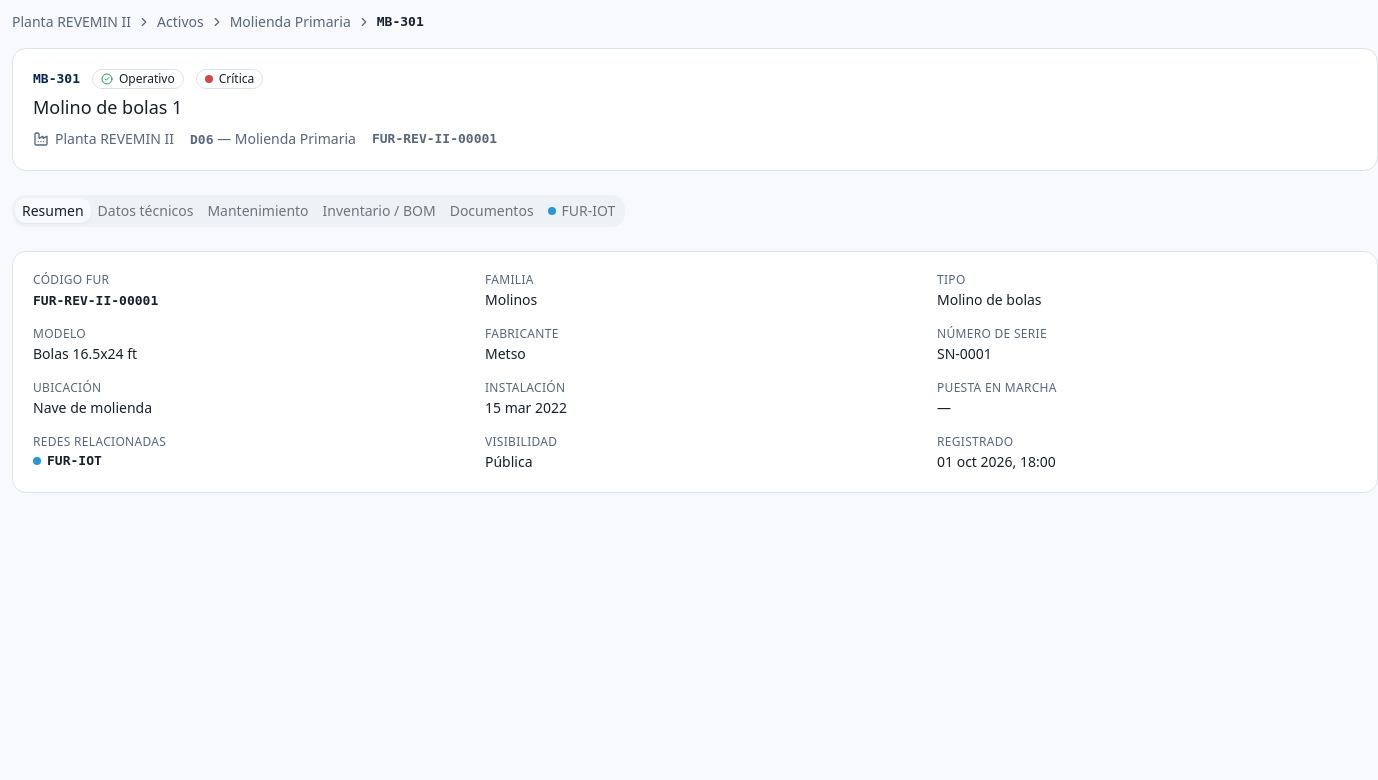
it: Ficha FUR del activo › Inventario / BOM › sin inventory.read: mensaje de acceso, sin datos
Click the tab "Inventario / BOM" at (379, 211), box 316,198 -> 443,223
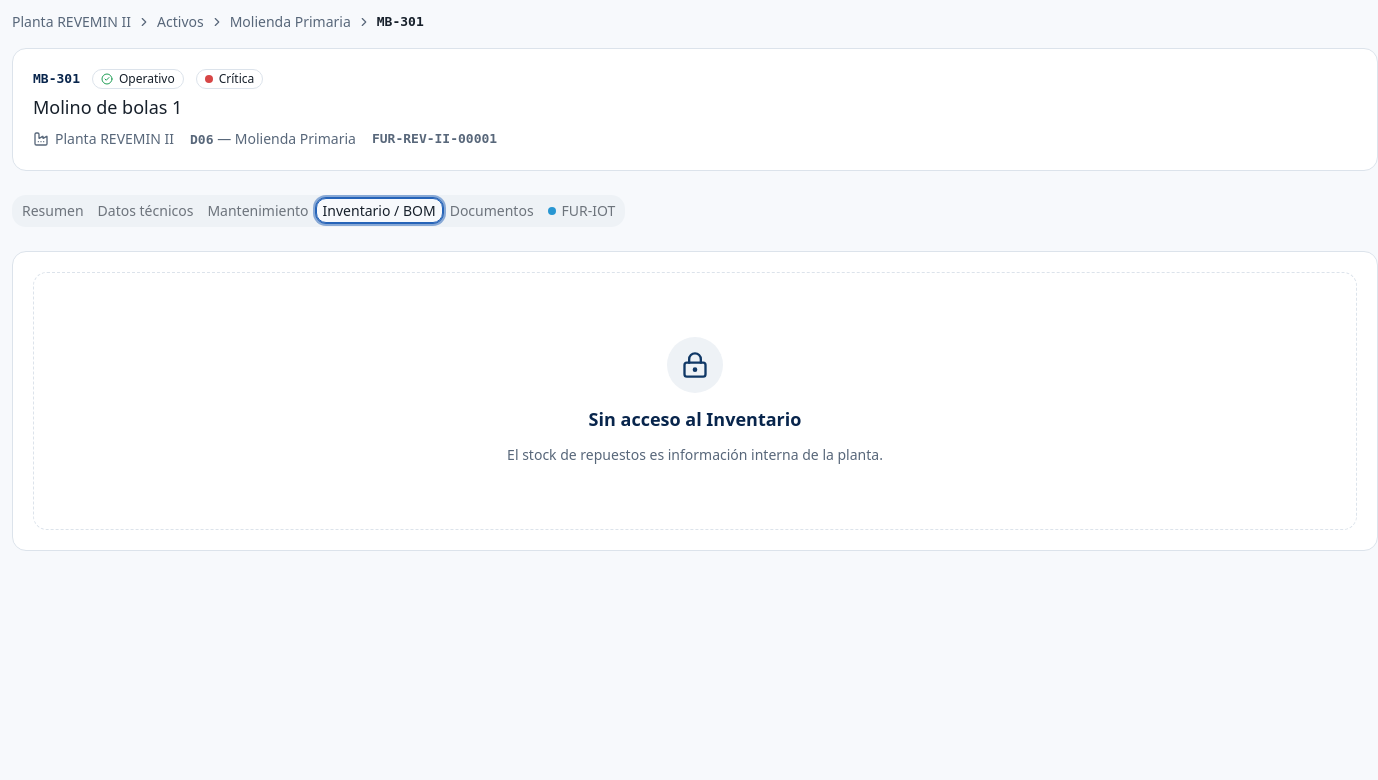
Expected: the heading "Sin acceso al Inventario" is shown, 589,405 -> 801,433
